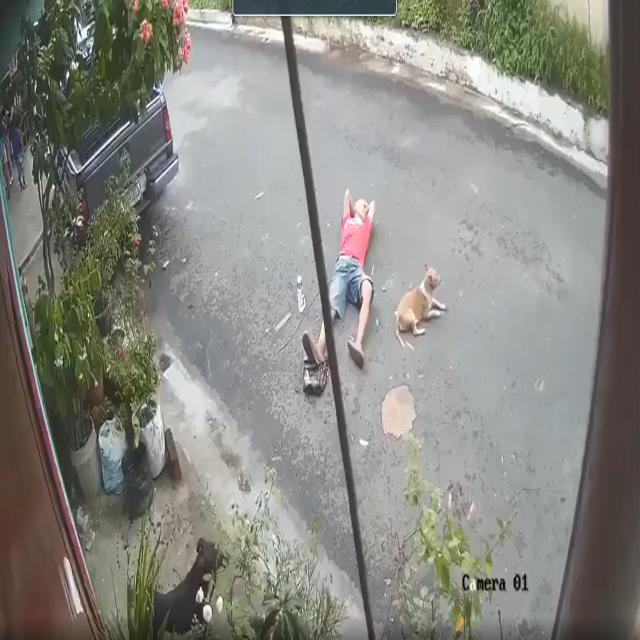fallen: (329, 190, 375, 368), (302, 322, 326, 363)
